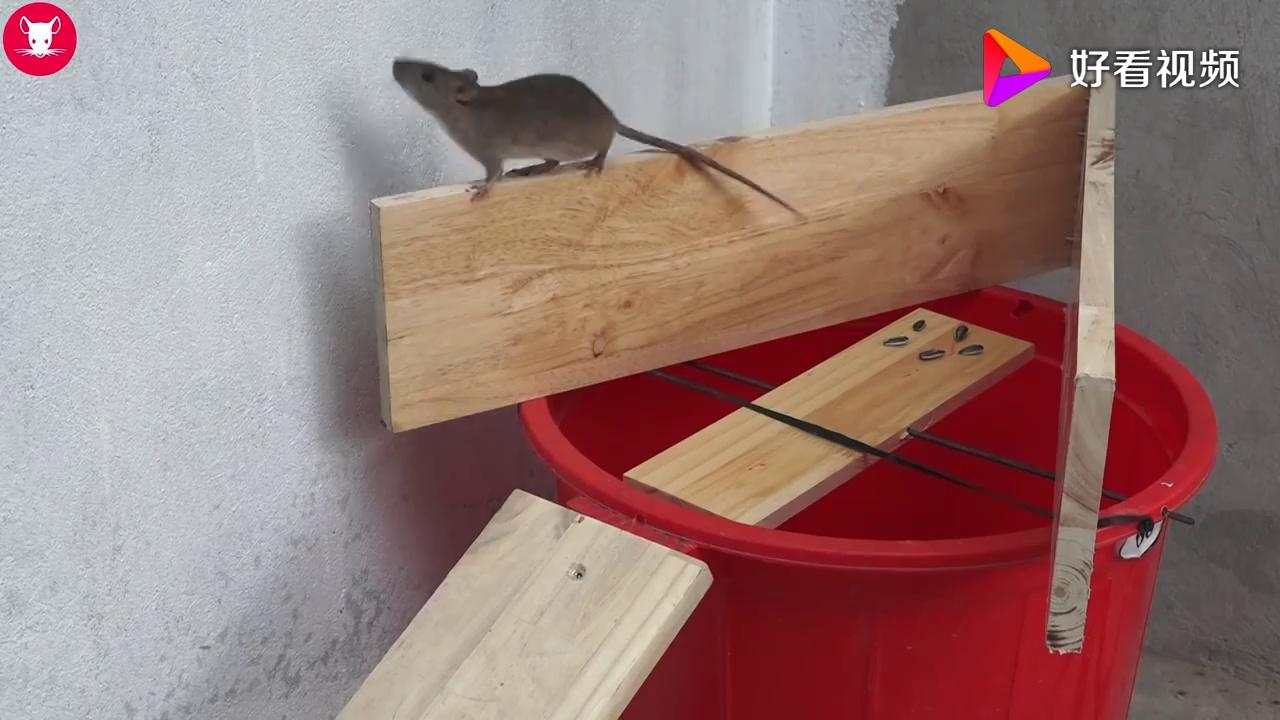rat: (383, 40, 709, 204)
